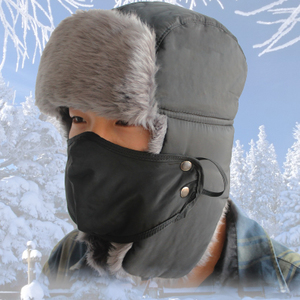face_mask: (58, 70, 156, 212)
